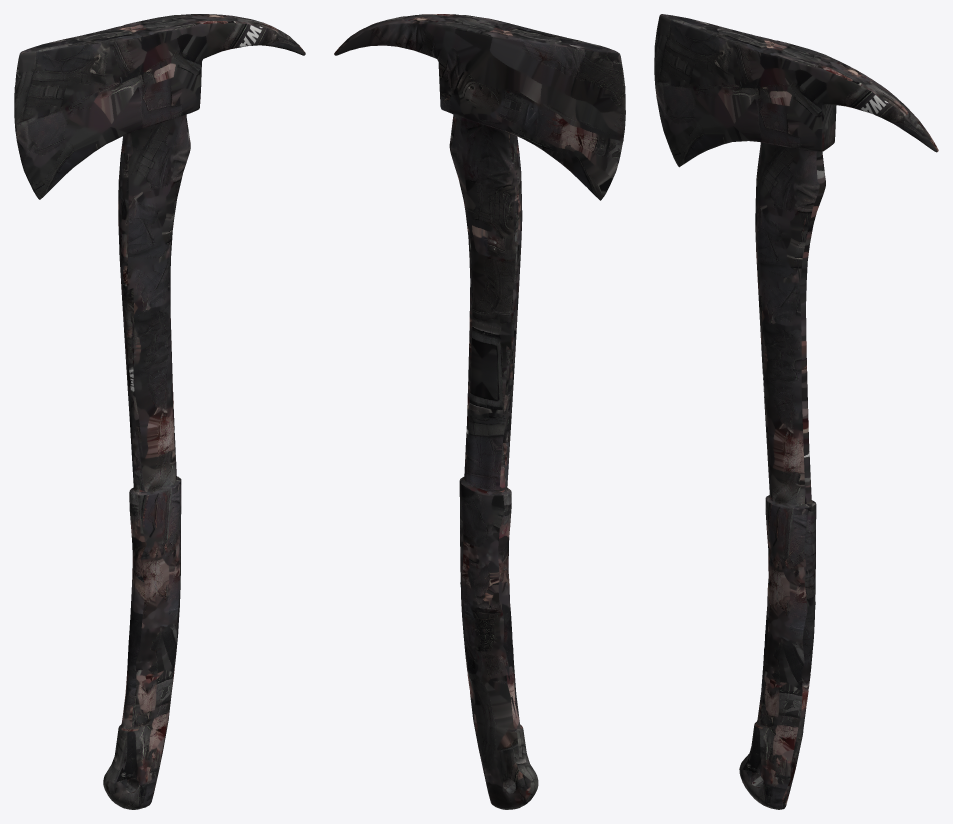
The model's file is Fire_Axe.fbx.
3 renders of one model, left to right at view 1: azimuth 30°, elevation 25°; view 2: azimuth 150°, elevation 25°; view 3: azimuth 330°, elevation 25°, orthographic. The views are drawn at different scales.
Parts seen in each view (by area): view 1: Axe; view 2: Axe; view 3: Axe.
Part boxes in pixels (bbox=[...]): Axe: bbox=[14, 14, 305, 809]; Axe: bbox=[334, 14, 625, 809]; Axe: bbox=[654, 14, 938, 809].
Bounding box in the file's own units: 29.3 × 75.42 × 3.68.
